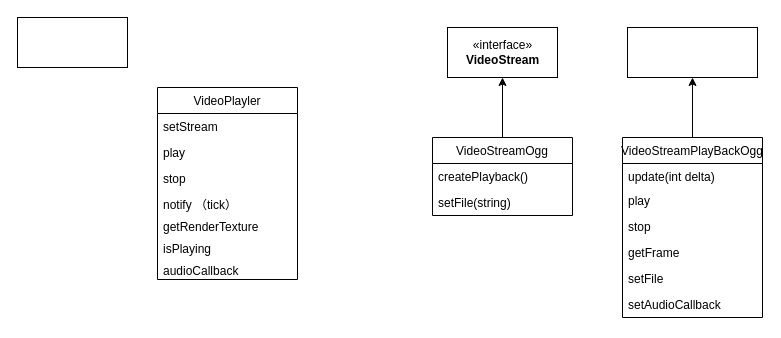
The diagram is 781 pixels wide and 338 high, and some of its shapes have lost their labels. Here are the shapes that lost their labels. From the top down, the centre of each, then its label:
At point 72,42: "audio".
At point 692,52: "«interface» VideoStreamPlayBack".
